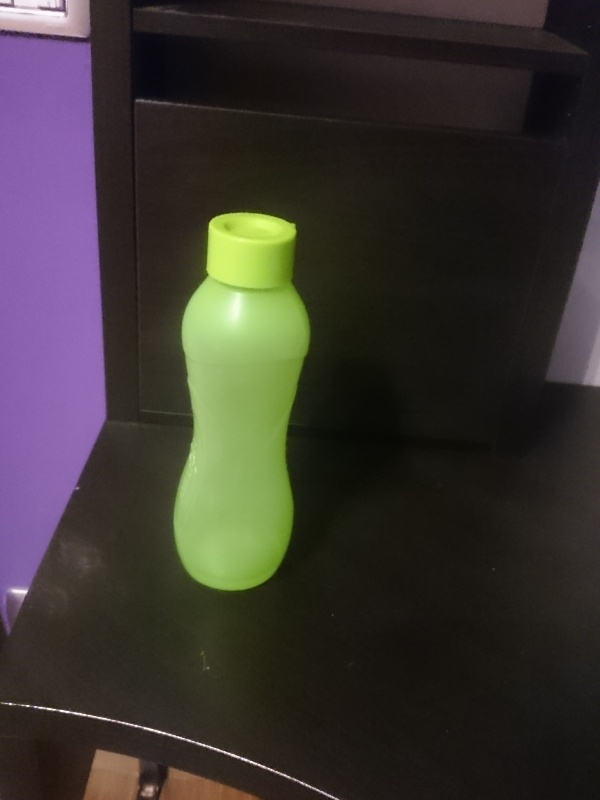my bottle: (168, 213, 309, 591)
